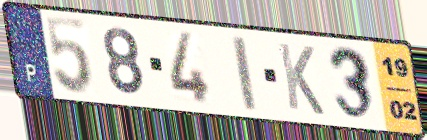3: (326, 44, 381, 124)
4: (167, 30, 214, 107)
5: (43, 13, 95, 97)
8: (101, 25, 148, 97)
I: (229, 33, 260, 114)
K: (275, 40, 327, 118)
